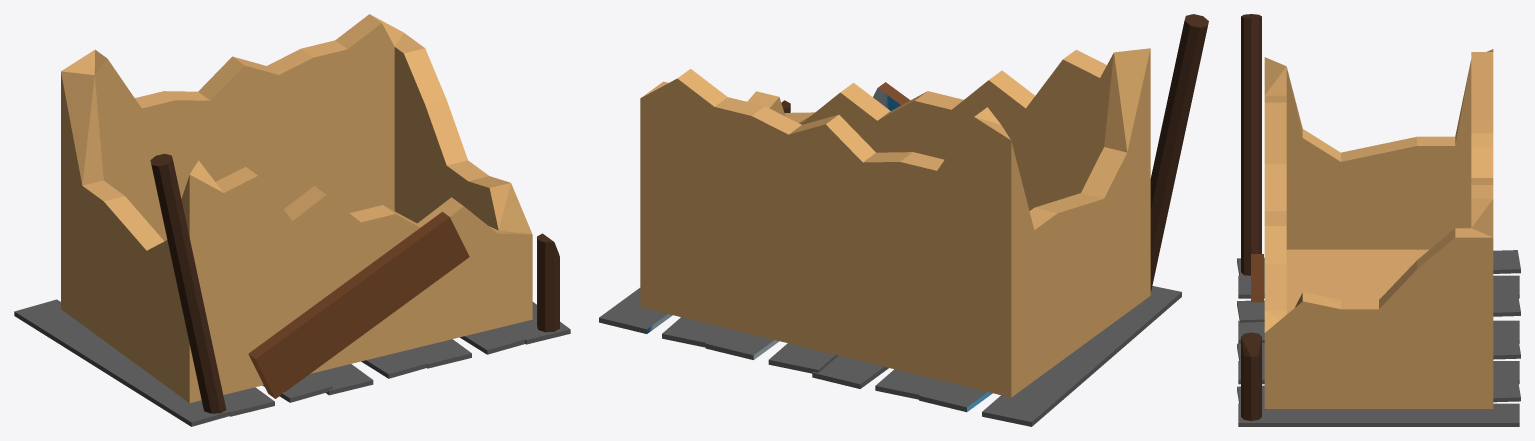
File: RestaurantRuins.fbx
3 views of the same model, side by side, from view 1: azimuth 30°, elevation 25°; view 2: azimuth 150°, elevation 25°; view 3: azimuth 270°, elevation 25° (orthographic). The views are drawn at different scales.
Visible parts, largest first — view 1: étteremruins; view 2: étteremruins; view 3: étteremruins.
Boxes of the visible parts, x1=… form: étteremruins: x1=14, y1=14, x2=570, y2=426; étteremruins: x1=599, y1=14, x2=1208, y2=426; étteremruins: x1=1237, y1=14, x2=1520, y2=426.
Size of the model in its own units: 4.8 by 3.02 by 3.23.
1 material, 1 textured.
